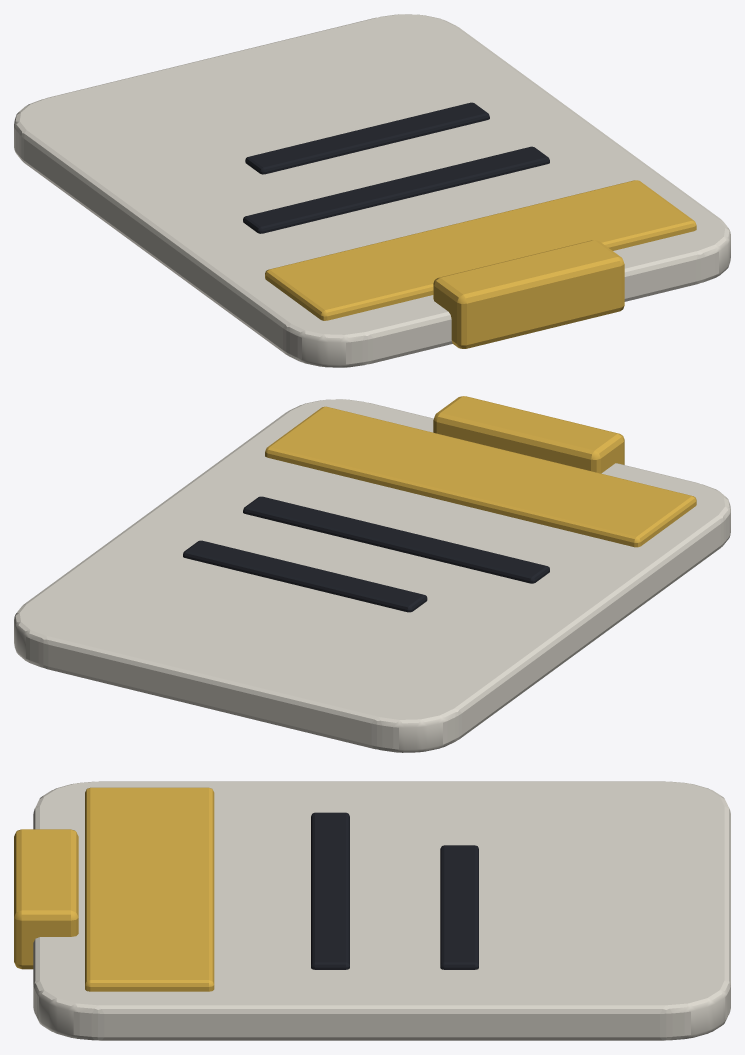
The model's file is WallHabitat_TaskCard_Manager.fbx.
3 renders of one model, top to bottom at view 1: azimuth 30°, elevation 25°; view 2: azimuth 150°, elevation 25°; view 3: azimuth 270°, elevation 25°, orthographic. The views are drawn at different scales.
Visible parts, largest first — view 1: WallHabitat_TaskCard_Manager_Mesh; view 2: WallHabitat_TaskCard_Manager_Mesh; view 3: WallHabitat_TaskCard_Manager_Mesh.
Boxes of the visible parts, x1,y1,x2,y2 form: WallHabitat_TaskCard_Manager_Mesh: [14, 14, 730, 367]; WallHabitat_TaskCard_Manager_Mesh: [14, 396, 730, 752]; WallHabitat_TaskCard_Manager_Mesh: [14, 781, 730, 1040].
Size of the model in its own units: 4.2 by 0.5 by 5.55.
